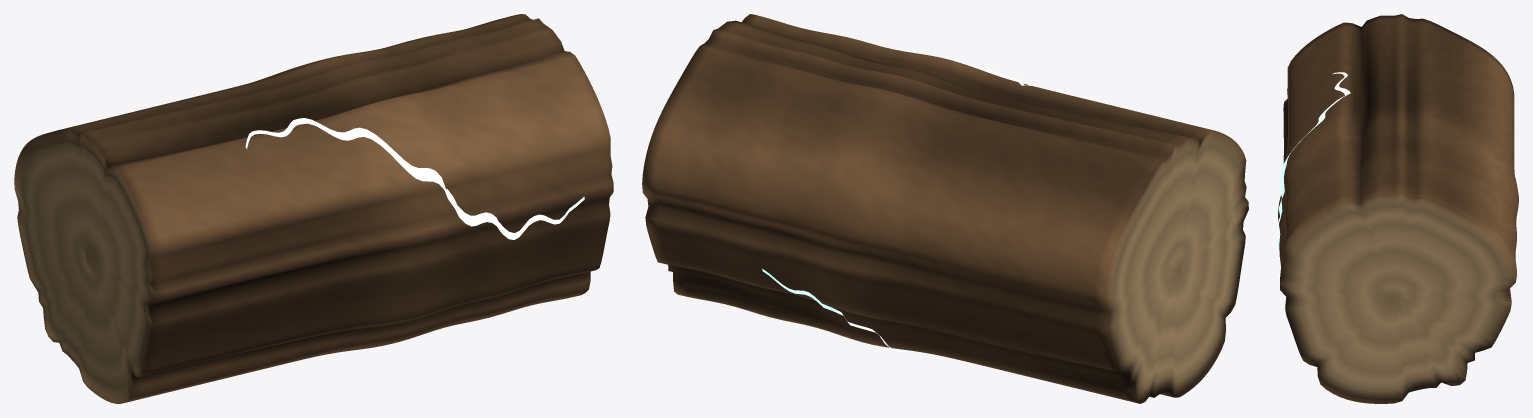
The model's file is stamm_weltenbaum.glb.
3 renders of one model, left to right at view 1: azimuth 30°, elevation 25°; view 2: azimuth 150°, elevation 25°; view 3: azimuth 270°, elevation 25°, orthographic. The views are drawn at different scales.
Visible parts, largest first — view 1: stamm; view 2: stamm; view 3: stamm.
Boxes of the visible parts, x1=… form: stamm: x1=14, y1=14, x2=613, y2=403; stamm: x1=642, y1=14, x2=1248, y2=403; stamm: x1=1277, y1=14, x2=1518, y2=403.
Size of the model in its own units: 0.6 by 0.3275 by 0.3377.
